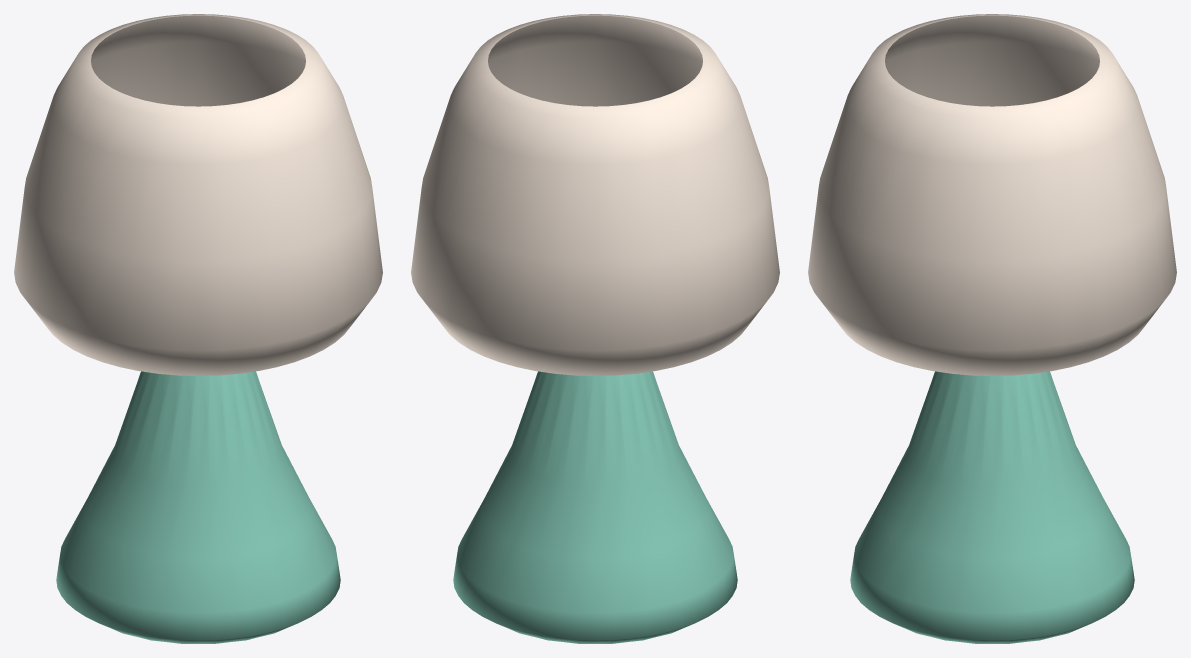
Rendered from deco_lampara_mesa.glb.
3 renders of one model, left to right at view 1: azimuth 30°, elevation 25°; view 2: azimuth 150°, elevation 25°; view 3: azimuth 270°, elevation 25°, orthographic.
Parts seen in each view (by area): view 1: pantalla.001, base lámpara mesa.001; view 2: pantalla.001, base lámpara mesa.001; view 3: pantalla.001, base lámpara mesa.001.
Boxes of the visible parts, x1=… form: pantalla.001: x1=14, y1=14, x2=382, y2=375; base lámpara mesa.001: x1=56, y1=371, x2=340, y2=643; pantalla.001: x1=411, y1=14, x2=779, y2=375; base lámpara mesa.001: x1=453, y1=371, x2=737, y2=643; pantalla.001: x1=808, y1=14, x2=1176, y2=375; base lámpara mesa.001: x1=850, y1=371, x2=1134, y2=643.
Size of the model in its own units: 0.2373 by 0.38 by 0.2373.
